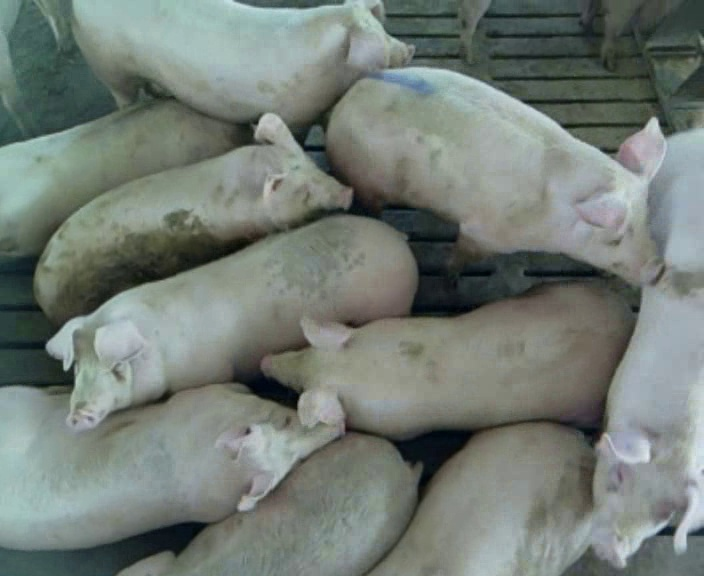pig: (46, 217, 417, 429), (327, 67, 664, 283), (34, 113, 352, 324), (261, 281, 633, 438), (0, 384, 343, 549), (592, 129, 703, 566), (120, 433, 420, 573), (73, 2, 413, 125), (0, 99, 250, 254), (370, 422, 594, 573)
